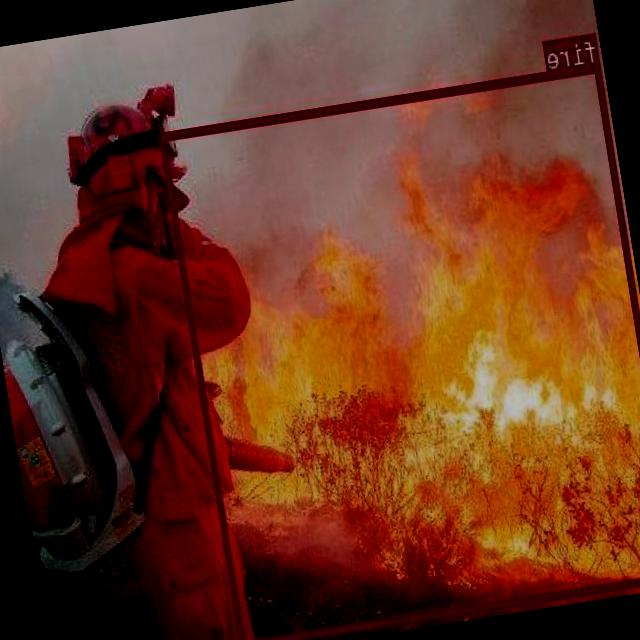fire: (159, 61, 640, 640)
